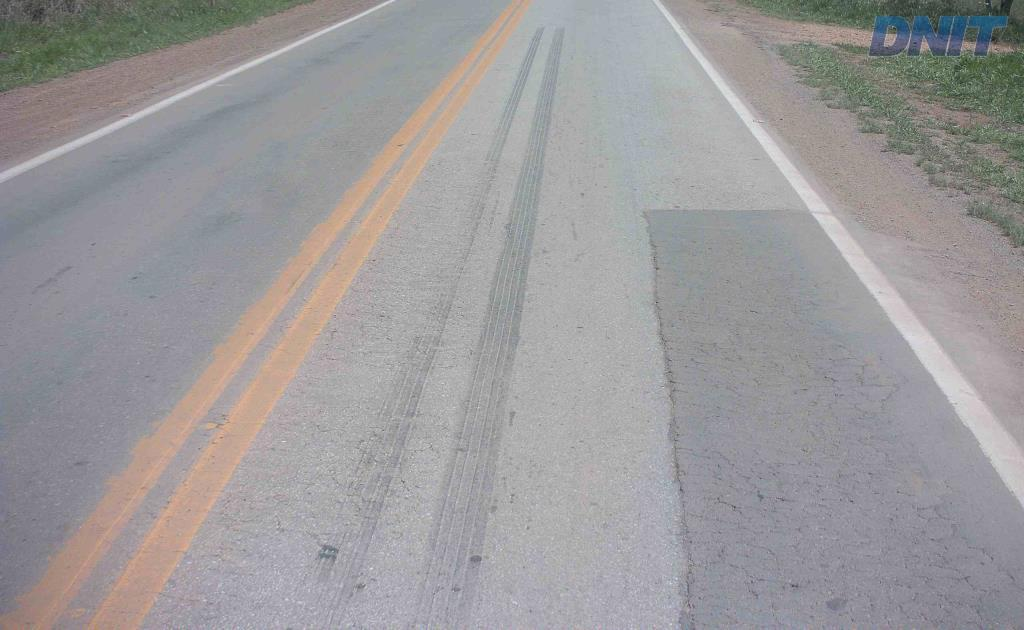crack: (654, 296, 688, 408), (958, 595, 1014, 629), (667, 416, 688, 498)
